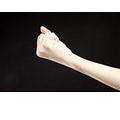gu-: (36, 25, 67, 61)
